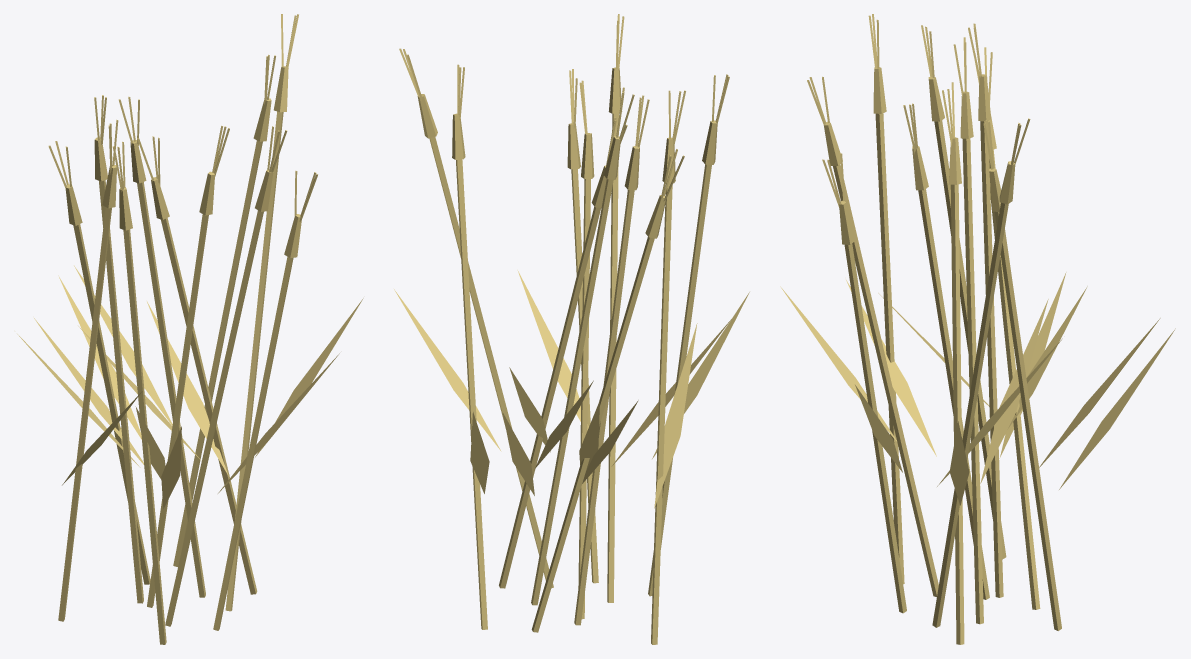
Rendered from barley_s3.glb.
The picture shows the model from 3 angles, left to right: view 1: azimuth 30°, elevation 25°; view 2: azimuth 150°, elevation 25°; view 3: azimuth 270°, elevation 25°; orthographic projection. The views are drawn at different scales.
Visible parts, largest first — view 1: barley; view 2: barley; view 3: barley.
Boxes of the visible parts, bbox=[...] form: barley: bbox=[17, 14, 363, 644]; barley: bbox=[394, 14, 749, 644]; barley: bbox=[780, 14, 1175, 644].
Bounding box in the file's own units: 0.5444 × 0.9272 × 0.5994.
